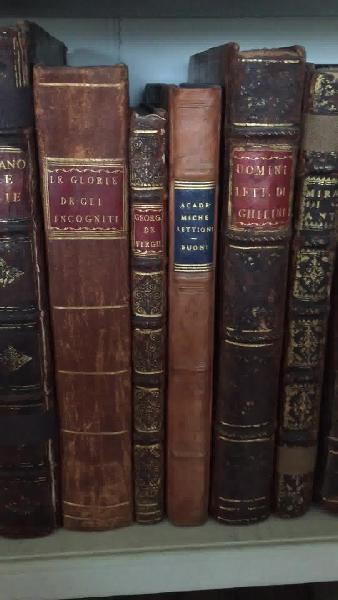Aa6-33: (32, 66, 139, 534)
Aa6-34: (127, 104, 176, 531)
Aa6-35: (169, 85, 218, 527)
Aa6-36: (218, 46, 293, 526)
Aa6-37: (278, 43, 338, 513)
